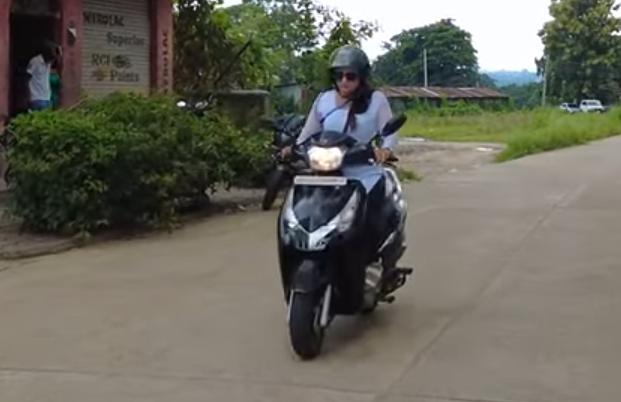scooter: (251, 108, 430, 362)
